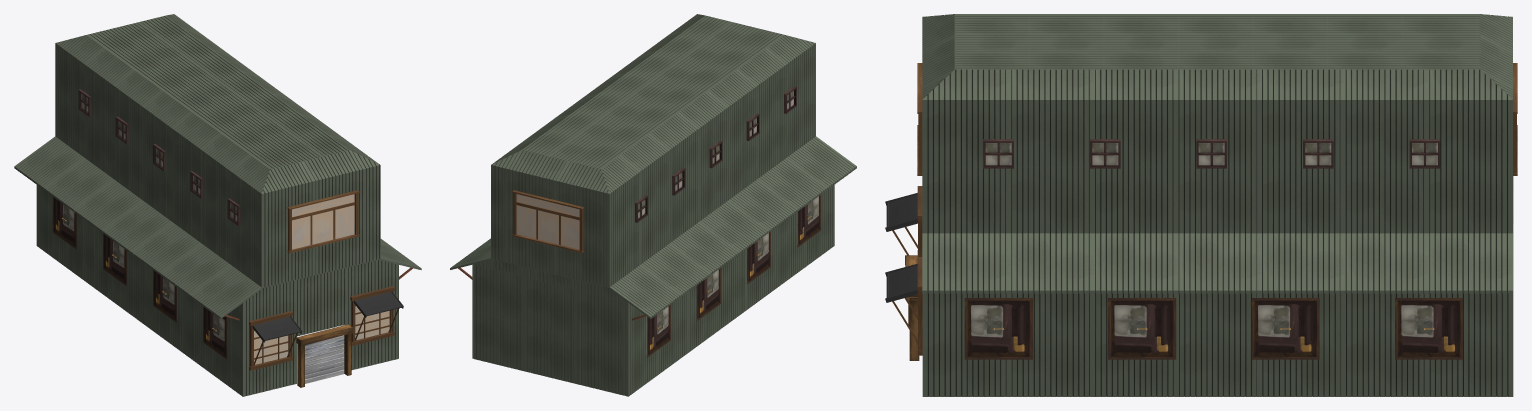
File: Nha 10.fbx
3 renders of one model, left to right at view 1: azimuth 30°, elevation 25°; view 2: azimuth 150°, elevation 25°; view 3: azimuth 270°, elevation 25°, orthographic. The views are drawn at different scales.
Visible parts, largest first — view 1: Plane.103; view 2: Plane.103; view 3: Plane.103.
Boxes of the visible parts, left/top/right/bottom form: Plane.103: left=14, top=14, right=421, bottom=396; Plane.103: left=450, top=14, right=856, bottom=396; Plane.103: left=885, top=14, right=1517, bottom=396.
Size of the model in its own units: 1224 by 1226 by 2332.
